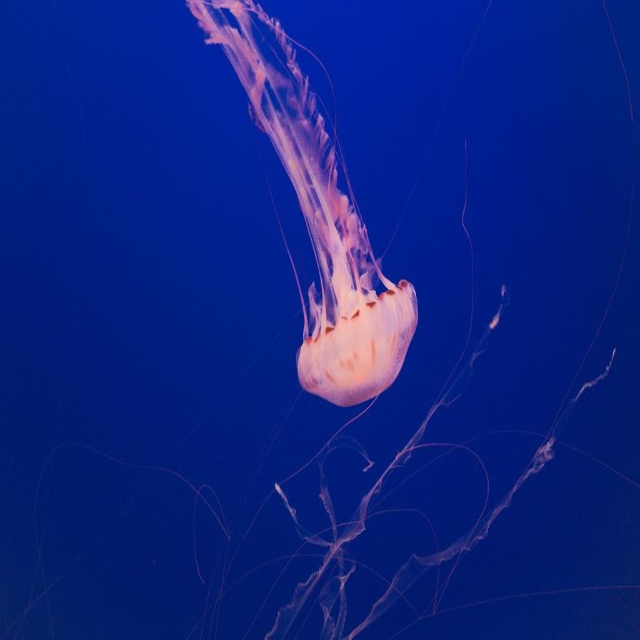Jellyfish: (172, 4, 444, 447)
